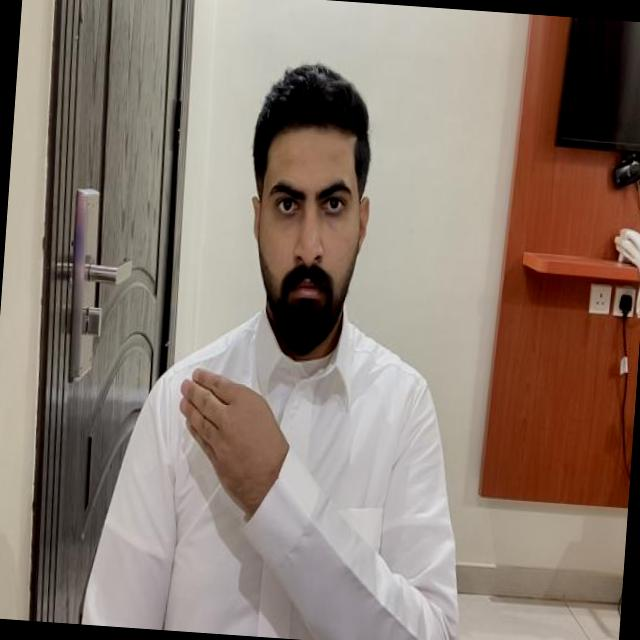result: (170, 364, 294, 516)
